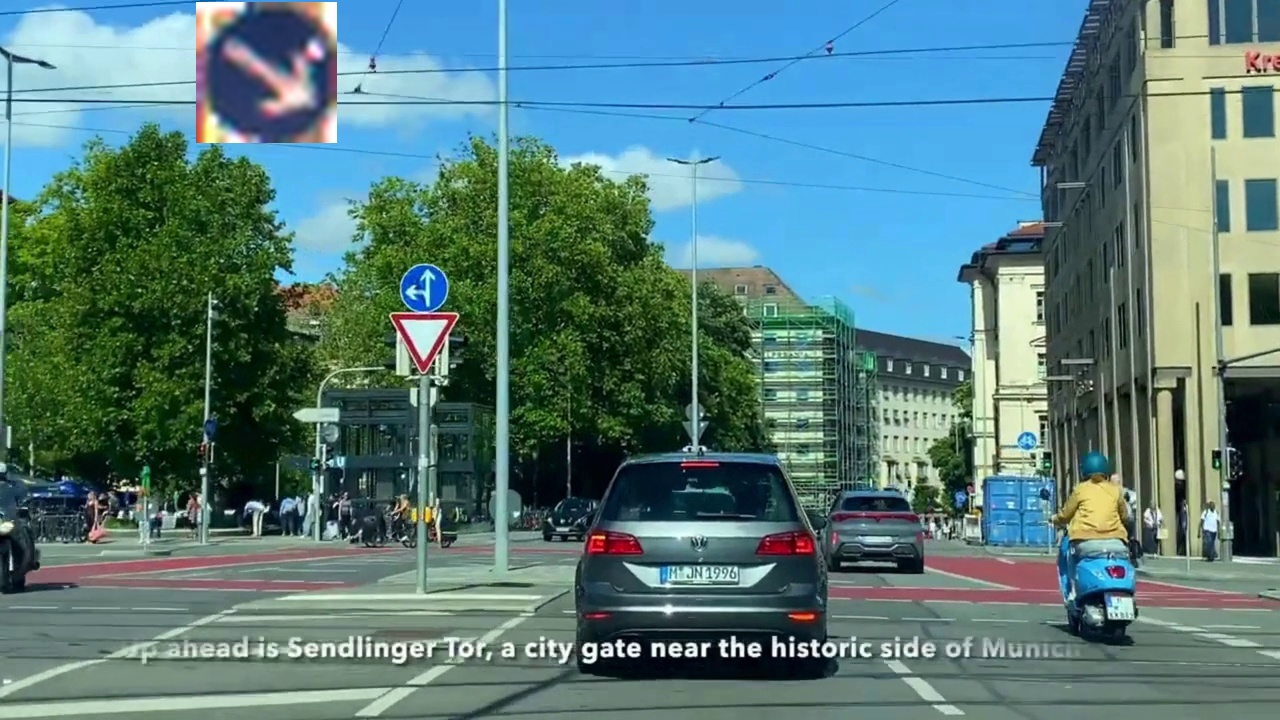Keep right: (196, 2, 337, 143)
